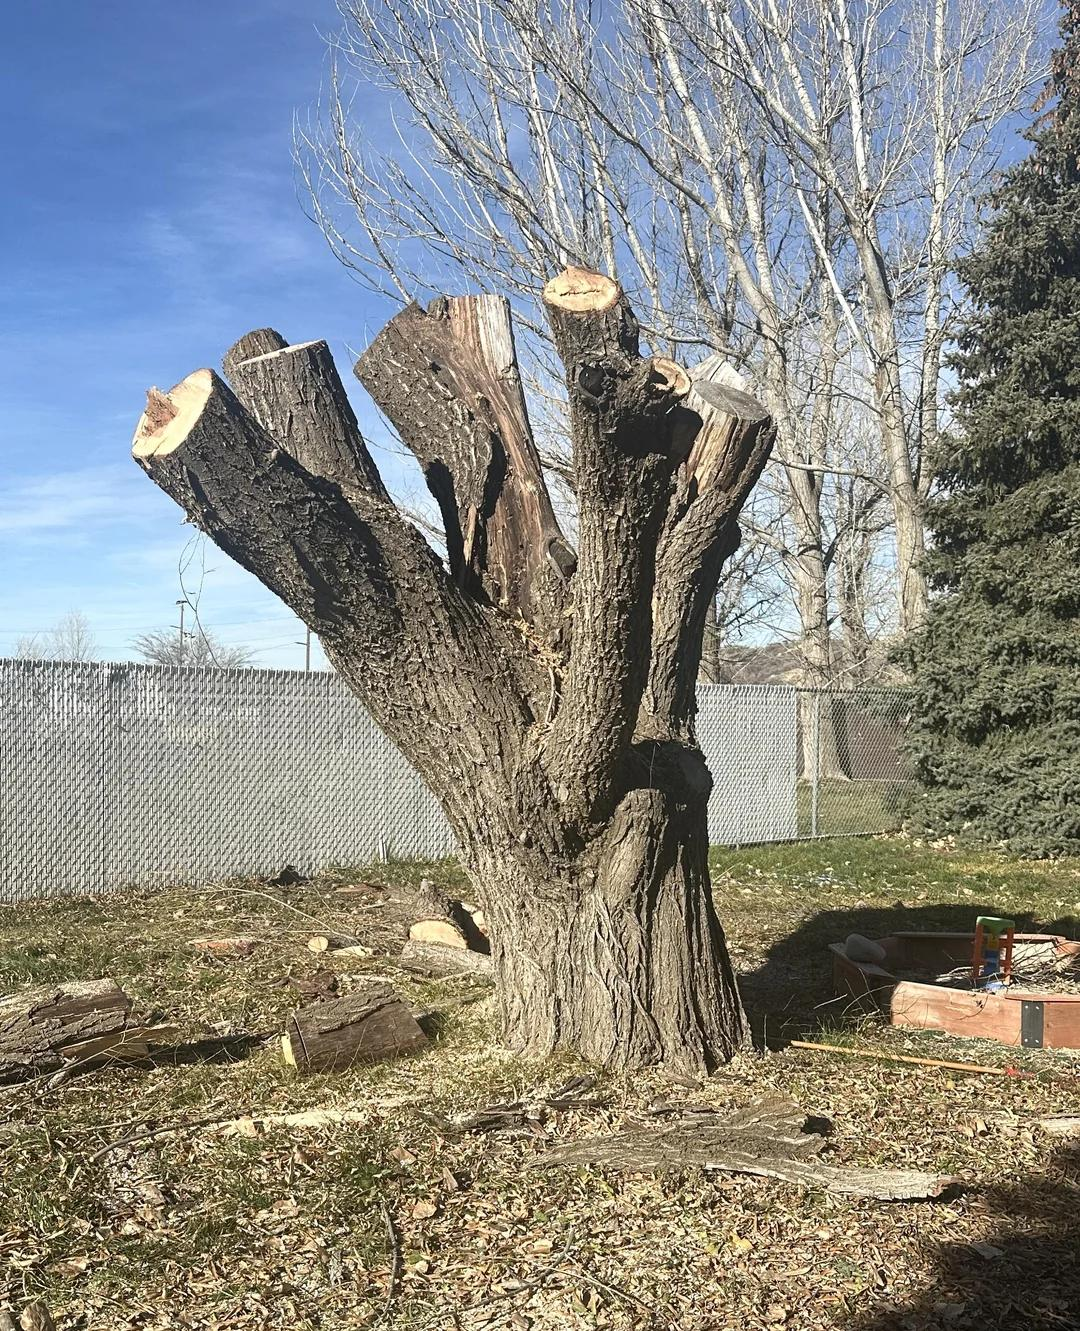mechanical damage: (133, 369, 222, 468), (542, 266, 622, 312)
